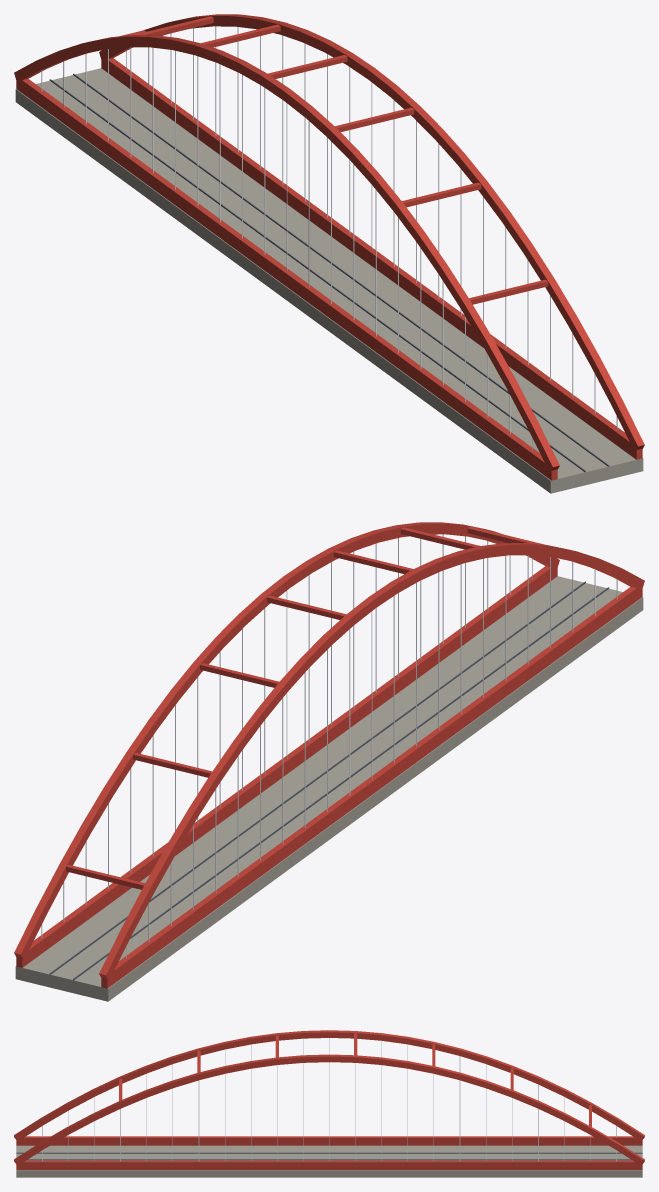
Rendered from arch_rail_bridge.glb.
The picture shows the model from 3 angles, top to bottom: view 1: azimuth 30°, elevation 25°; view 2: azimuth 150°, elevation 25°; view 3: azimuth 270°, elevation 25°; orthographic projection. The views are drawn at different scales.
Parts seen in each view (by area): view 1: arch_bridge; view 2: arch_bridge; view 3: arch_bridge.
Boxes of the visible parts, <box> form: arch_bridge: <box>14,14,644,493</box>; arch_bridge: <box>14,522,644,1001</box>; arch_bridge: <box>14,1030,644,1177</box>.
Bounding box in the file's own units: 12 × 25.6 × 121.
